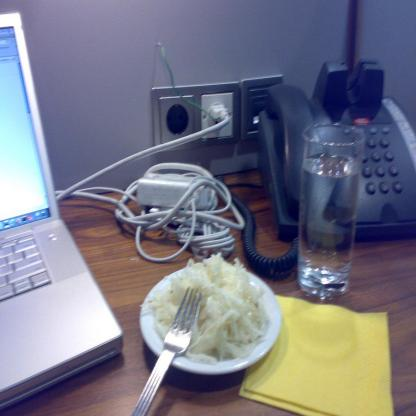board: (0, 11, 125, 416)
